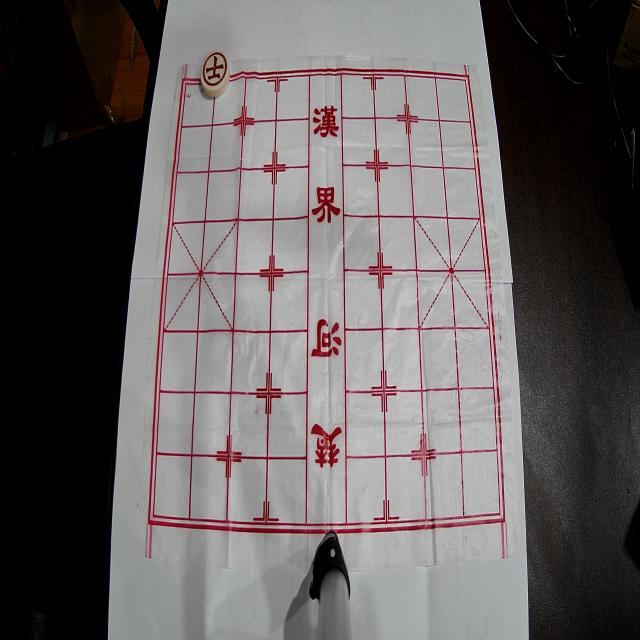red-advisor: (200, 50, 230, 97)
